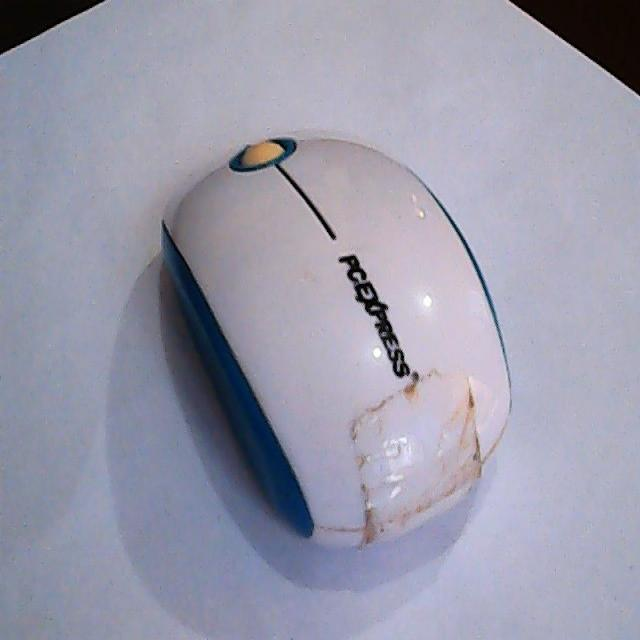Mouse: (157, 127, 518, 556)
